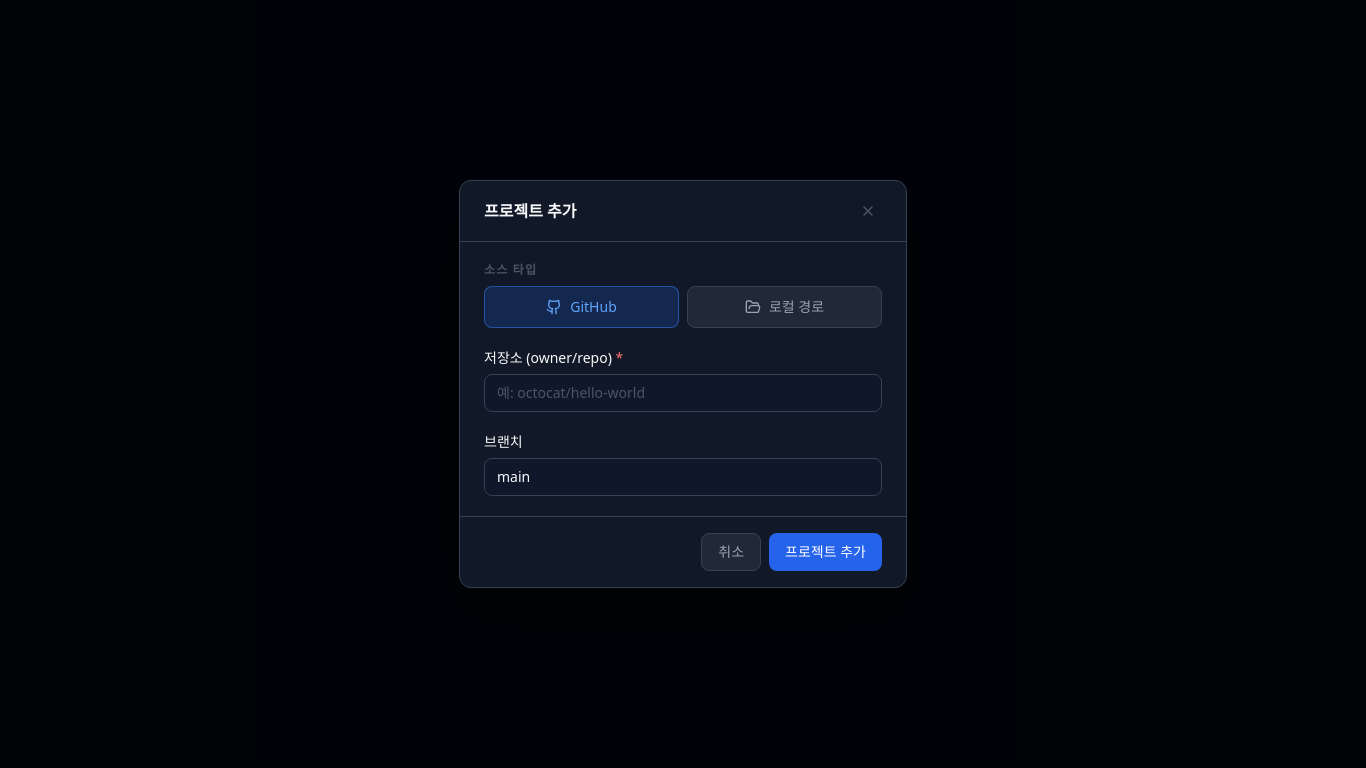
Test case: AddProjectDialog › GitHub repo 미입력 시 오류 메시지가 표시된다
The image size is (1366, 768).
Click the button with test id "dialog-submit-button" at point(826, 552), box [769, 533, 882, 571]
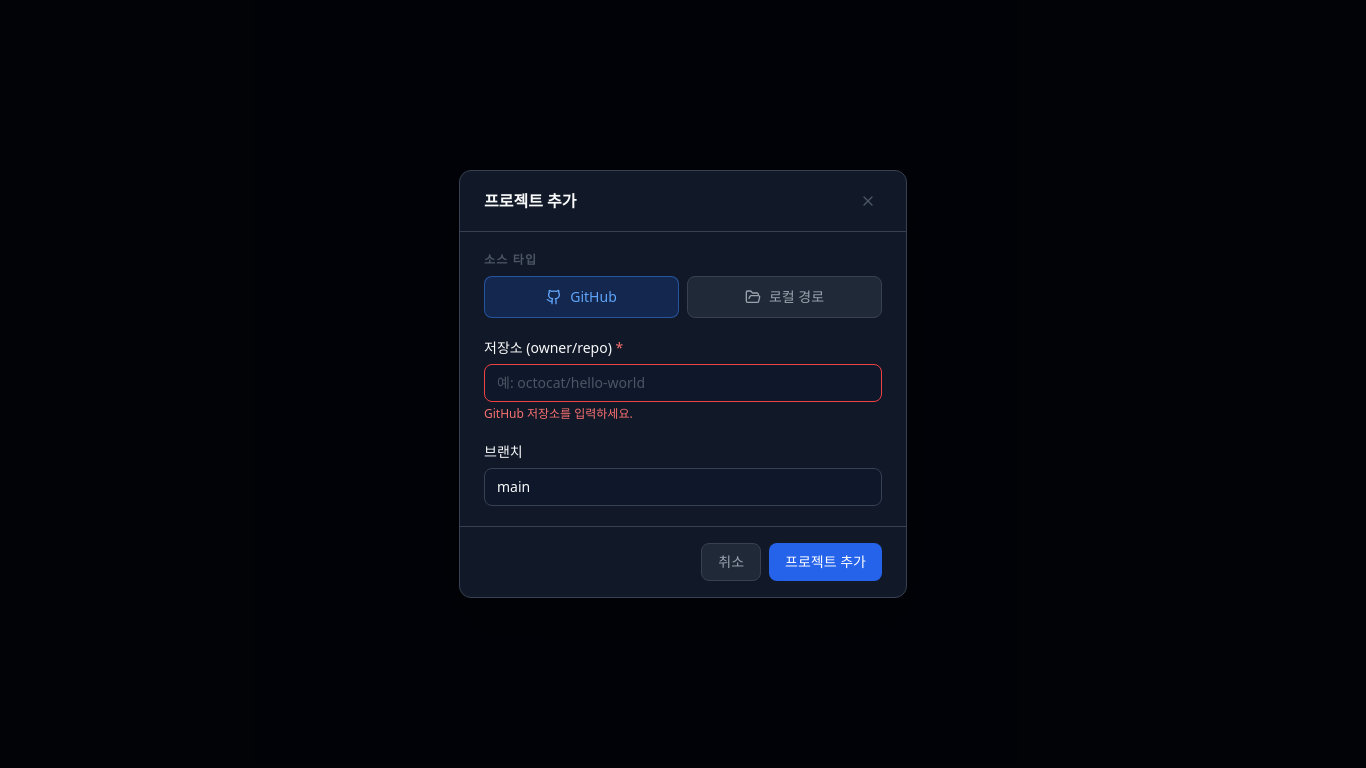
Now the text "GitHub 저장소를 입력하세요." is shown, box [484, 405, 633, 422]
